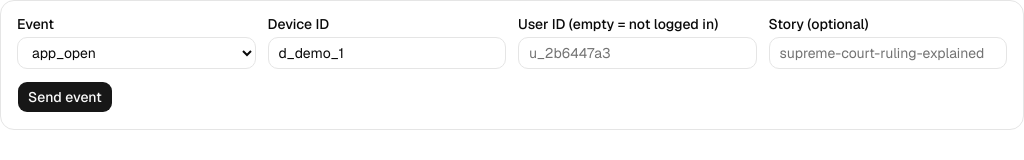
EventSimulator › explains that an event with no user is anonymous for now
Click the button "Send event" at (65, 97), box [17,81,113,113]
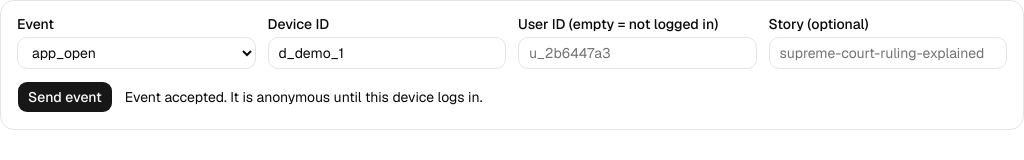
Result: the message reads "Event accepted. It is anonymous until this device logs in." at [125,87,482,107]
